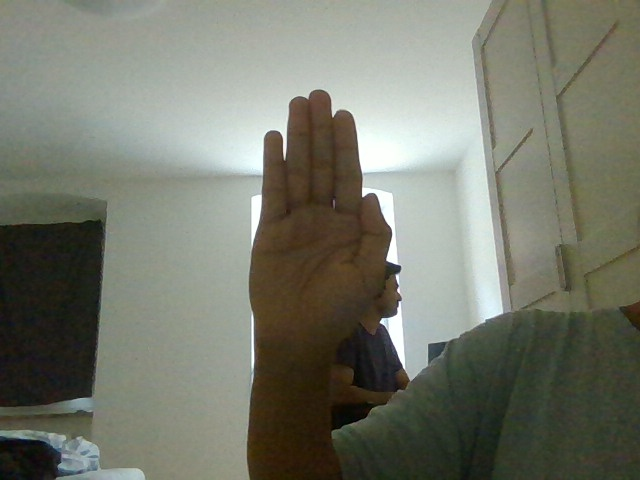Palm: (239, 85, 393, 361)
